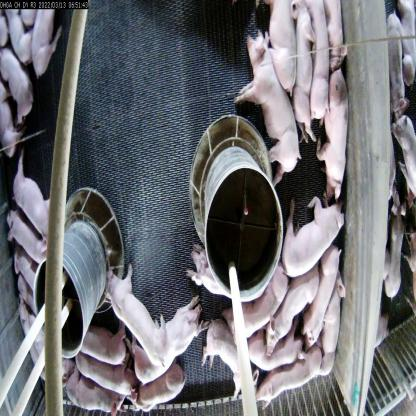Pig: (235, 17, 306, 178), (247, 316, 331, 415), (228, 266, 295, 362), (275, 189, 347, 276), (316, 62, 358, 203), (129, 299, 203, 375), (109, 267, 166, 361), (9, 154, 68, 242), (300, 0, 340, 125), (291, 0, 325, 138), (272, 274, 322, 360), (206, 322, 258, 401), (78, 340, 139, 405), (136, 352, 198, 415), (75, 320, 148, 369), (304, 245, 339, 346), (241, 317, 299, 377), (180, 245, 231, 313), (320, 282, 350, 392), (0, 44, 38, 127), (61, 360, 117, 416), (3, 212, 49, 276), (27, 0, 60, 82), (268, 0, 301, 82), (5, 249, 37, 304)
